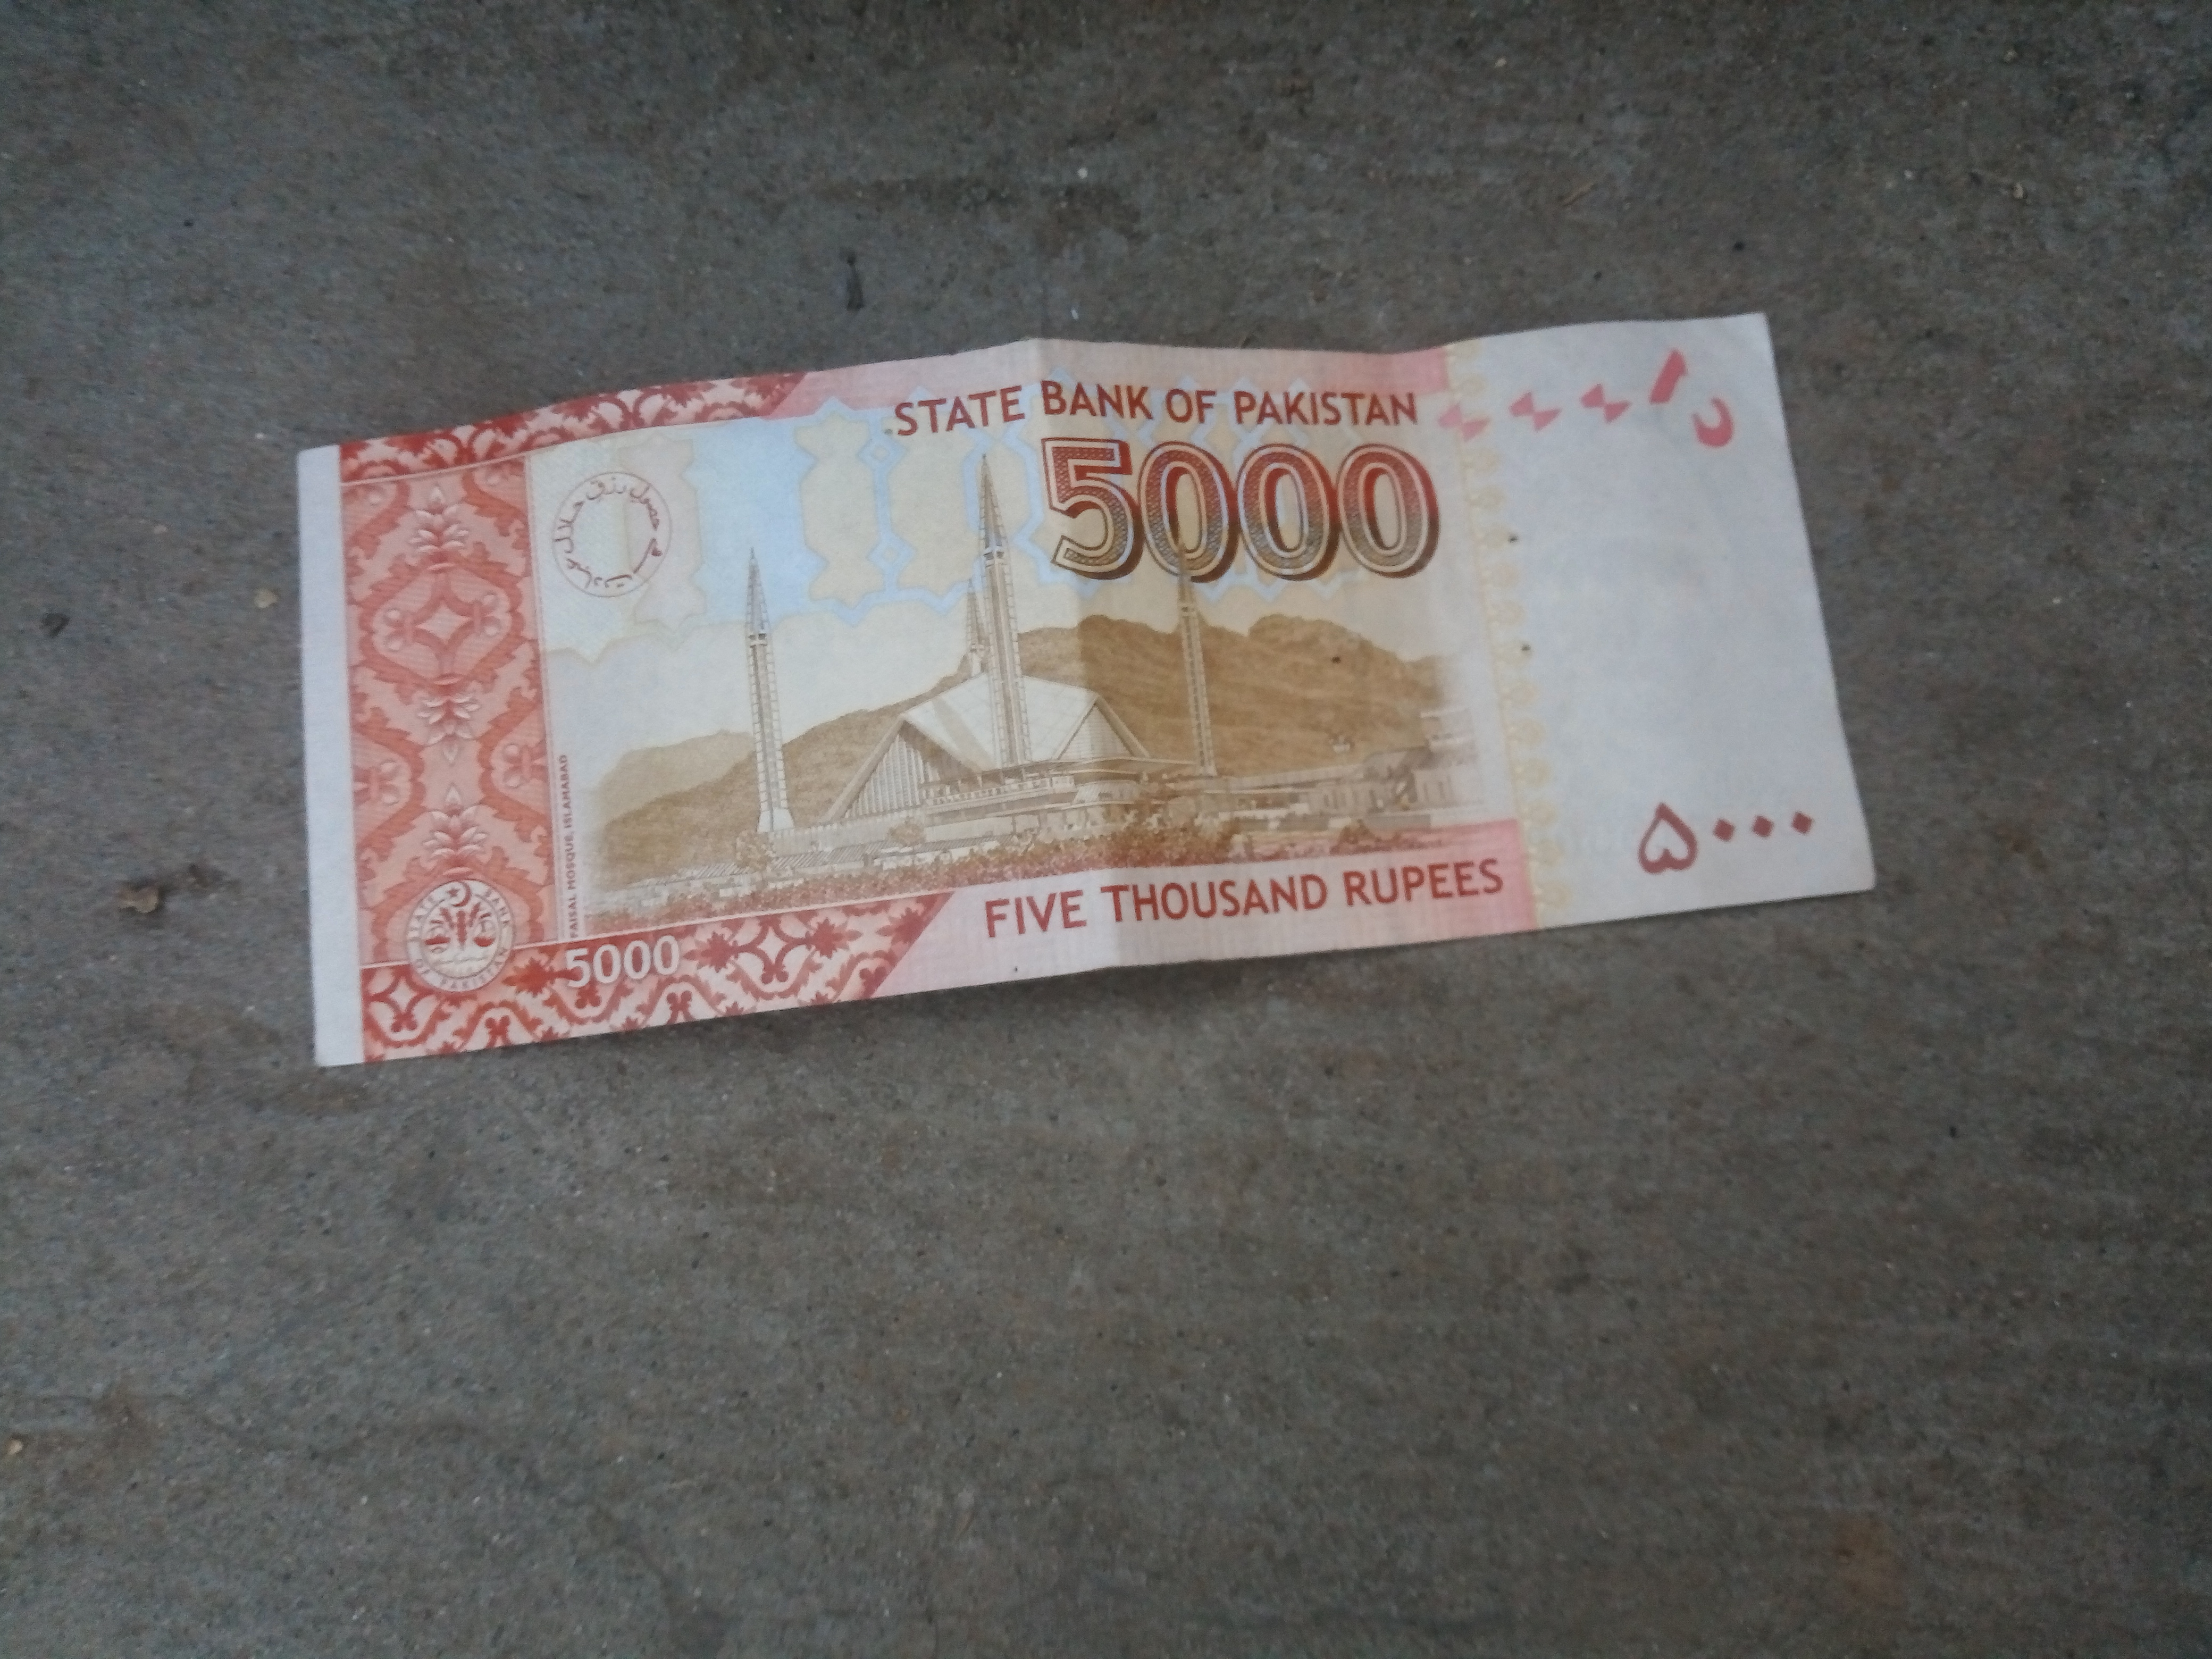5000 rupee: (260, 223, 1921, 1077)
